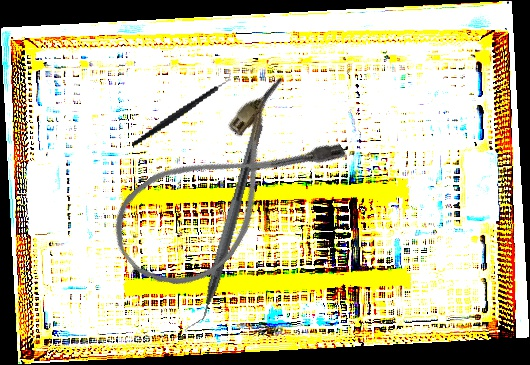Cannula: (95, 71, 353, 310)
Chopper: (181, 118, 265, 338), (120, 69, 243, 149)
